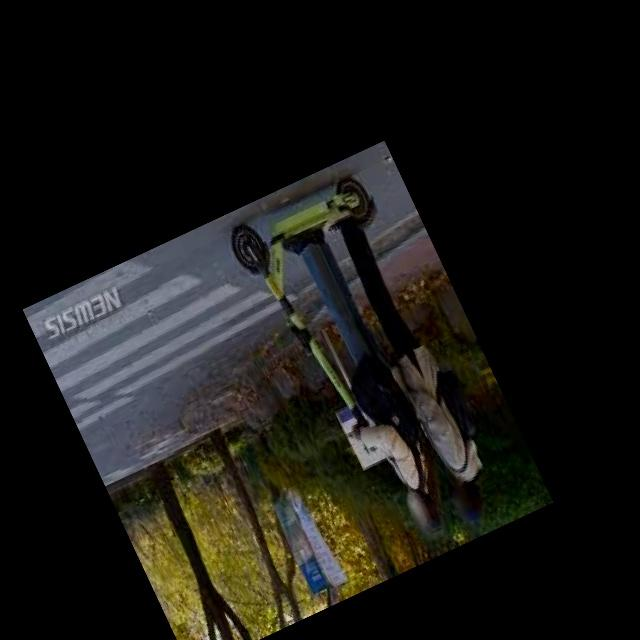bare_head: (385, 480, 440, 541), (440, 475, 487, 526)
human: (331, 220, 488, 524), (284, 230, 437, 539)
kickboard: (235, 172, 375, 283)
